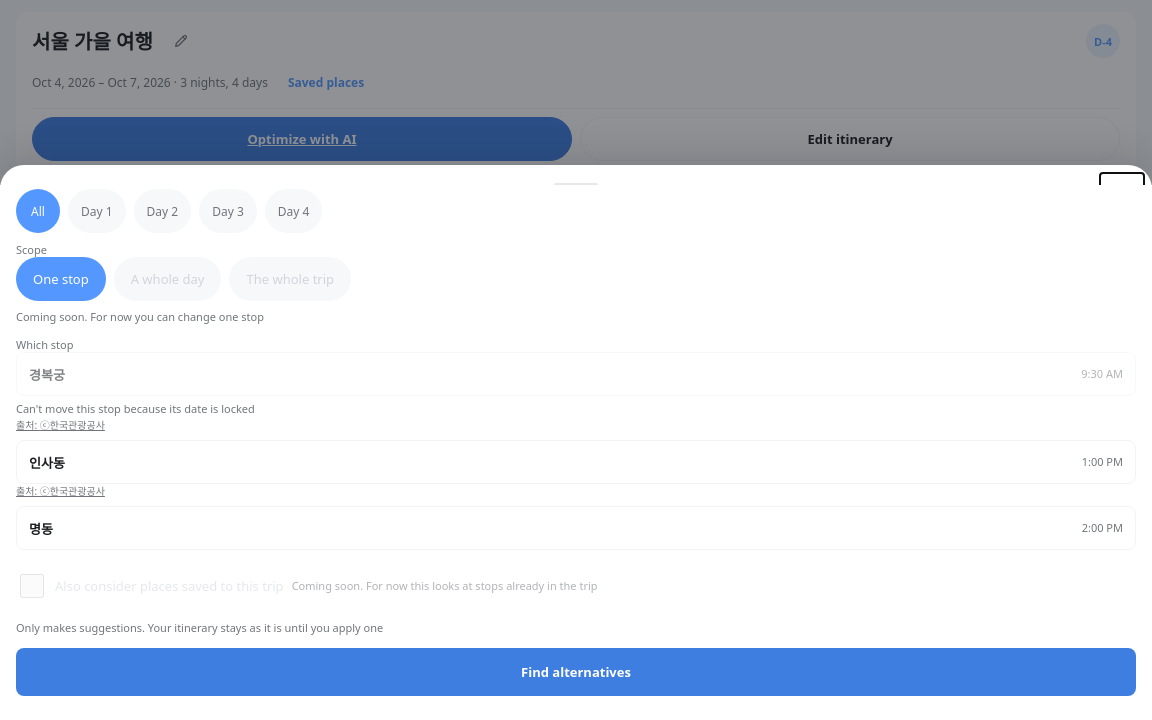
FE-501-T1 only ITEM is offered (FCR-010 trace) › keeps a DATE-locked stop visible but disabled and sends nothing for it
Expected: the button "One stop" is shown, [16, 257, 106, 301]
Click the button "경복궁 9:30 AM" at (47, 374), box [16, 352, 1136, 396]
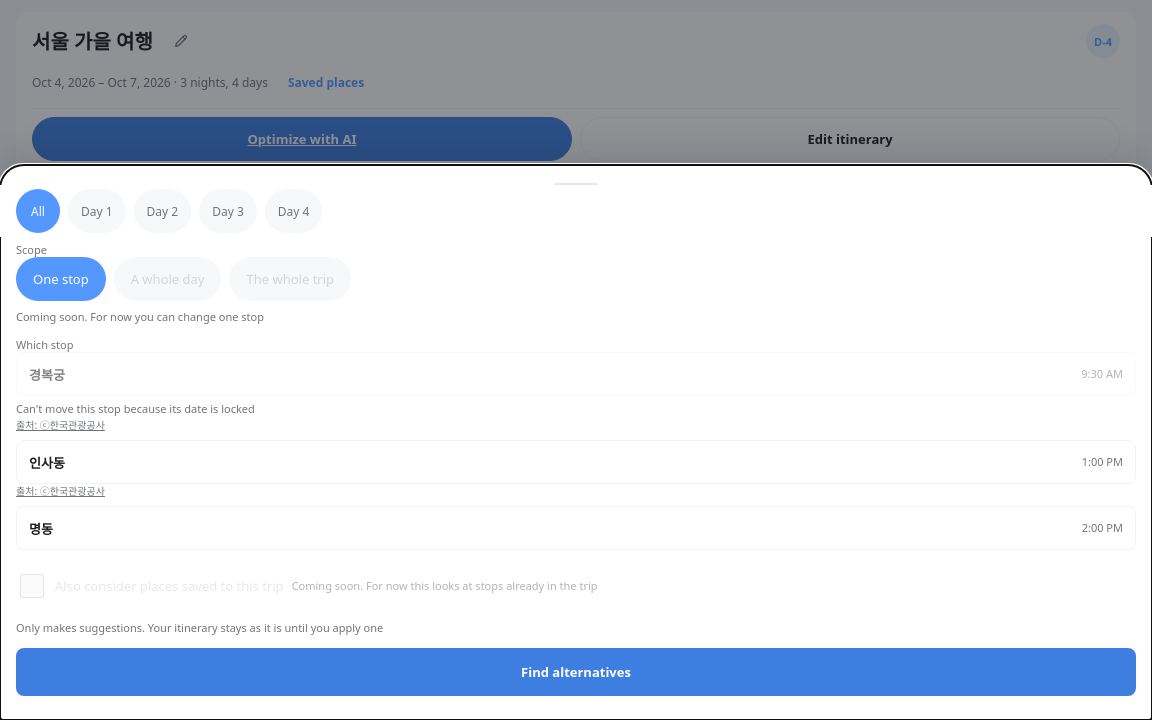
Click the button "Find alternatives" at (576, 672), box [16, 648, 1136, 696]
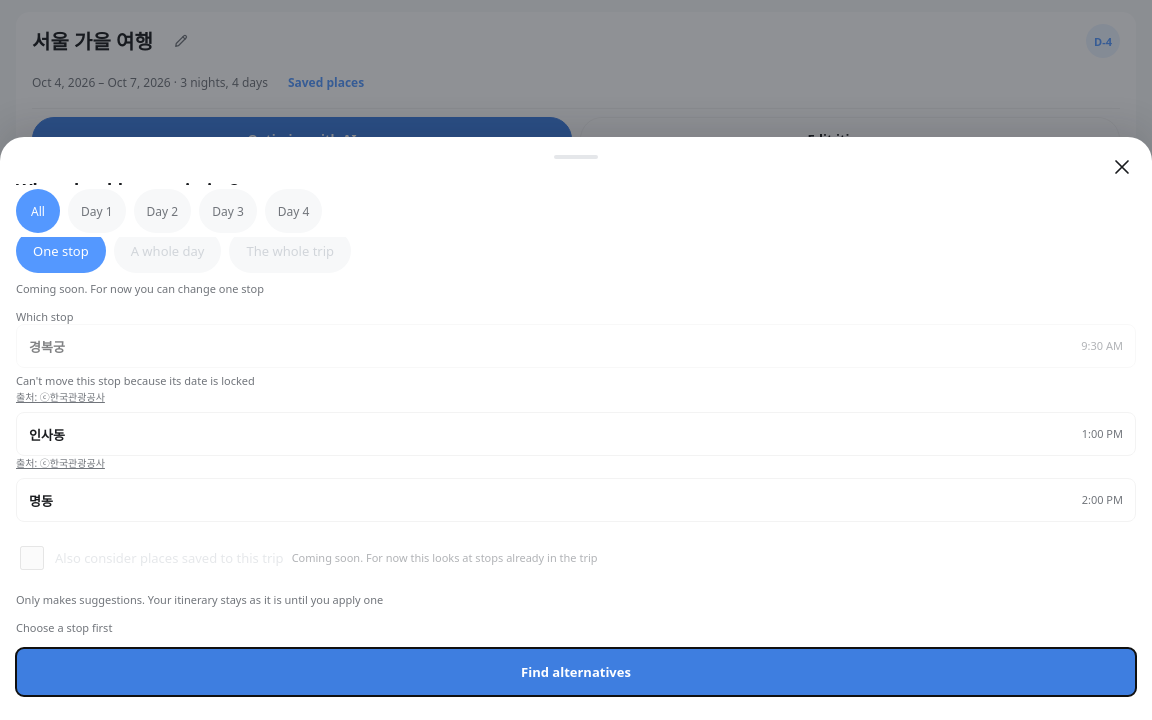
Expected: the text "Choose a stop first" is shown, [16, 620, 112, 635]
